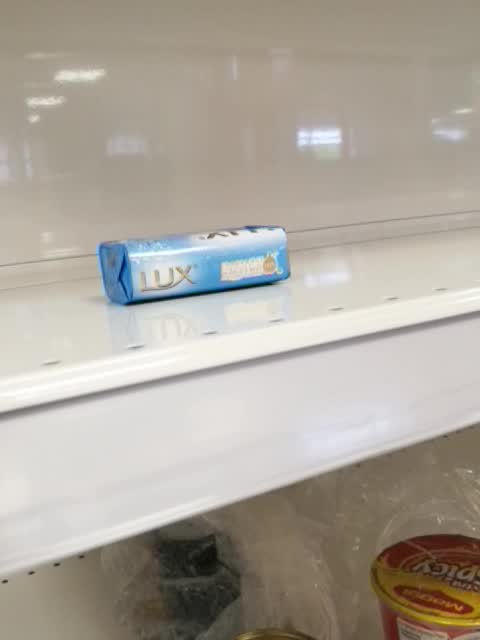soap: (97, 225, 292, 306)
